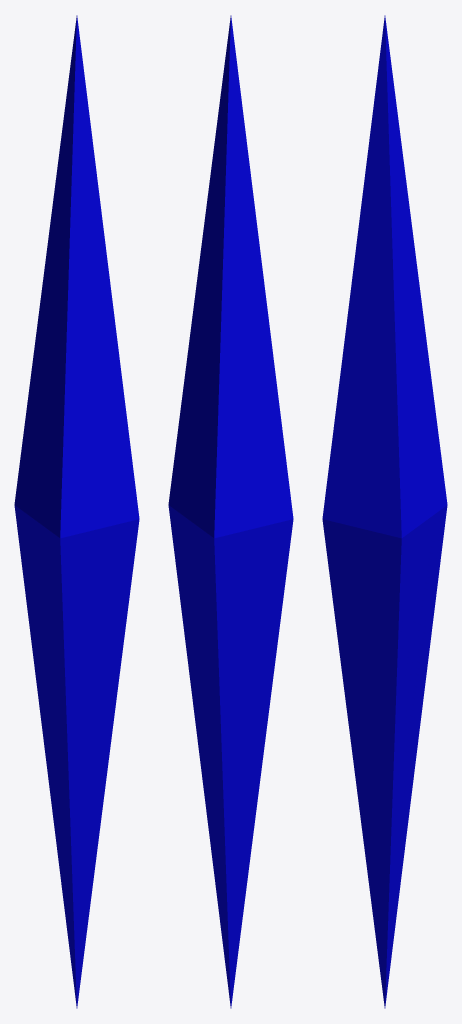
Rendered from Compass170703.fbx.
3 renders of one model, left to right at view 1: azimuth 30°, elevation 25°; view 2: azimuth 210°, elevation 25°; view 3: azimuth 330°, elevation 25°, orthographic.
Visible parts, largest first — view 1: Body1; view 2: Body1; view 3: Body1.
Boxes of the visible parts, x1,y1,x2,y2 form: Body1: [14, 15, 139, 1008]; Body1: [168, 15, 293, 1008]; Body1: [322, 15, 447, 1008].
Bounding box in the file's own units: 2 × 24 × 2.
